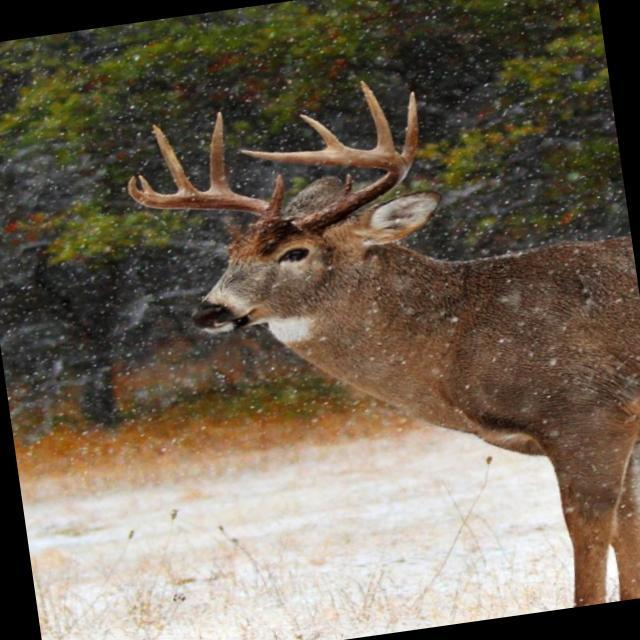E1: (138, 174, 156, 194)
L-F: (237, 148, 410, 230)
L-G1: (340, 174, 355, 197)
L-G2: (402, 91, 419, 169)
L-G3: (359, 79, 394, 152)
L-G4: (299, 114, 346, 149)
R-G1: (268, 173, 284, 210)
R-G2: (209, 111, 230, 192)
R-G3: (150, 122, 197, 193)
